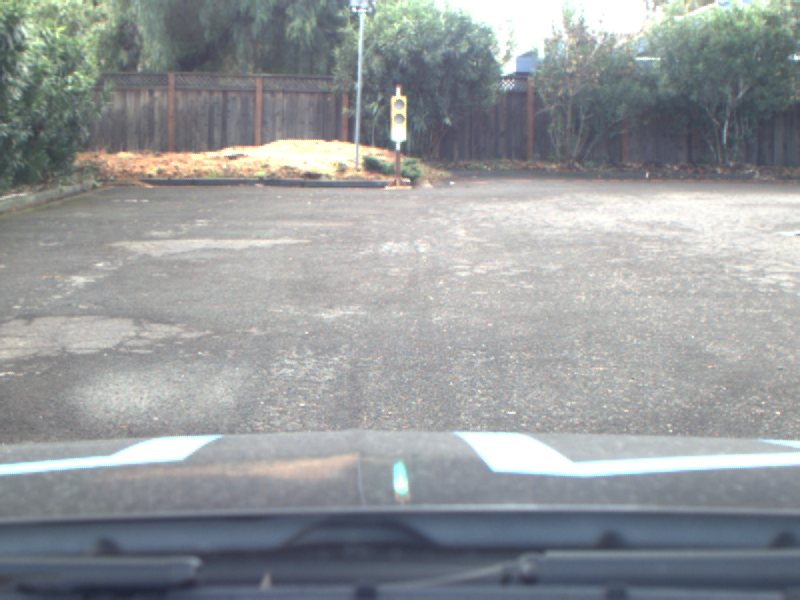Green: (390, 94, 408, 141)
